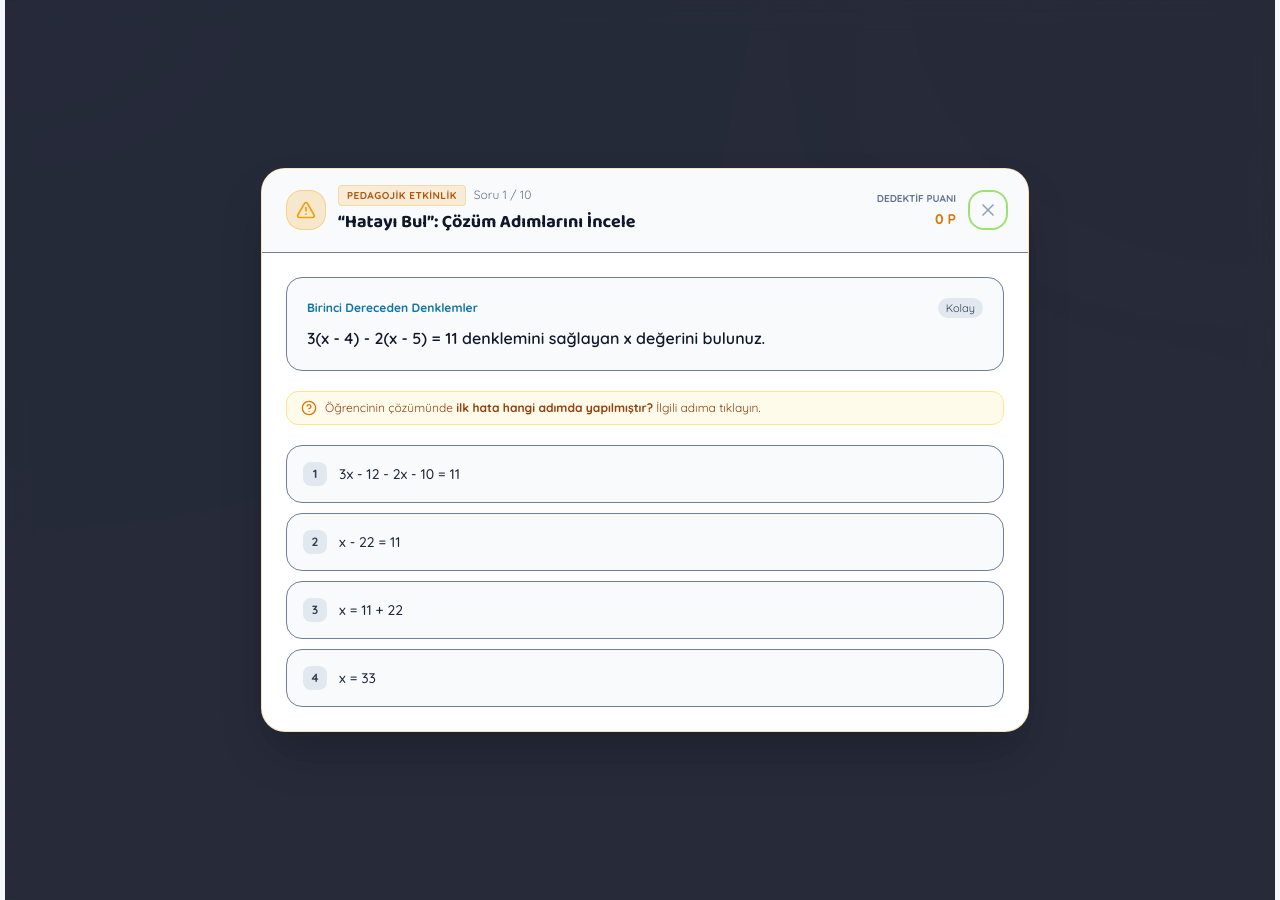
Test: SpotTheMistakeModal › hatalı adıma tıklandığında doğru bildirim gösterir
Click the button "1 3x - 12 - 2x - 10 = 11": (400, 474) [286,445,1004,503]
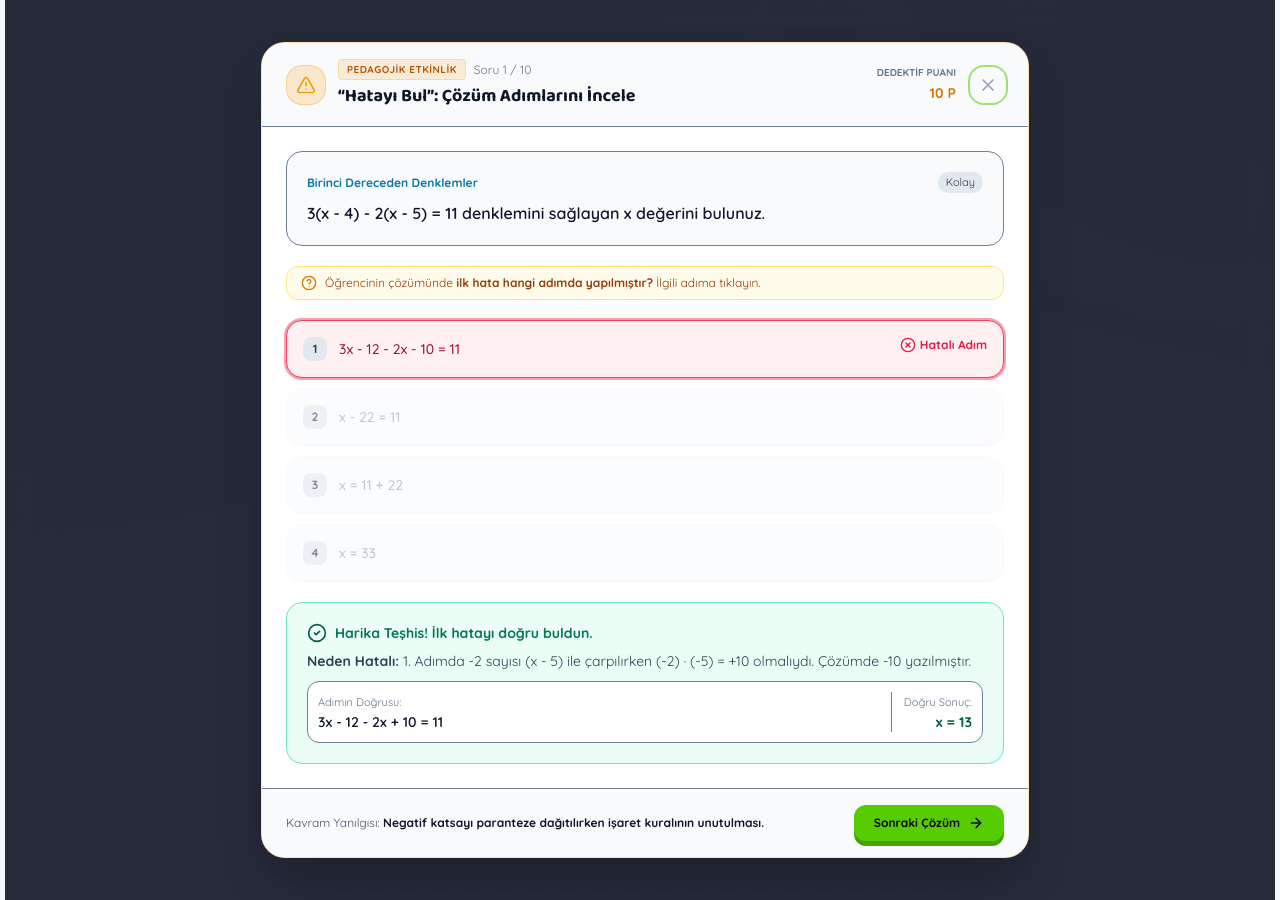
Now the text "Harika Teşhis! İlk hatayı doğru buldun." is shown, box [335,623,593,643]
Now the text "Neden Hatalı:" is shown, box [307,652,399,670]
